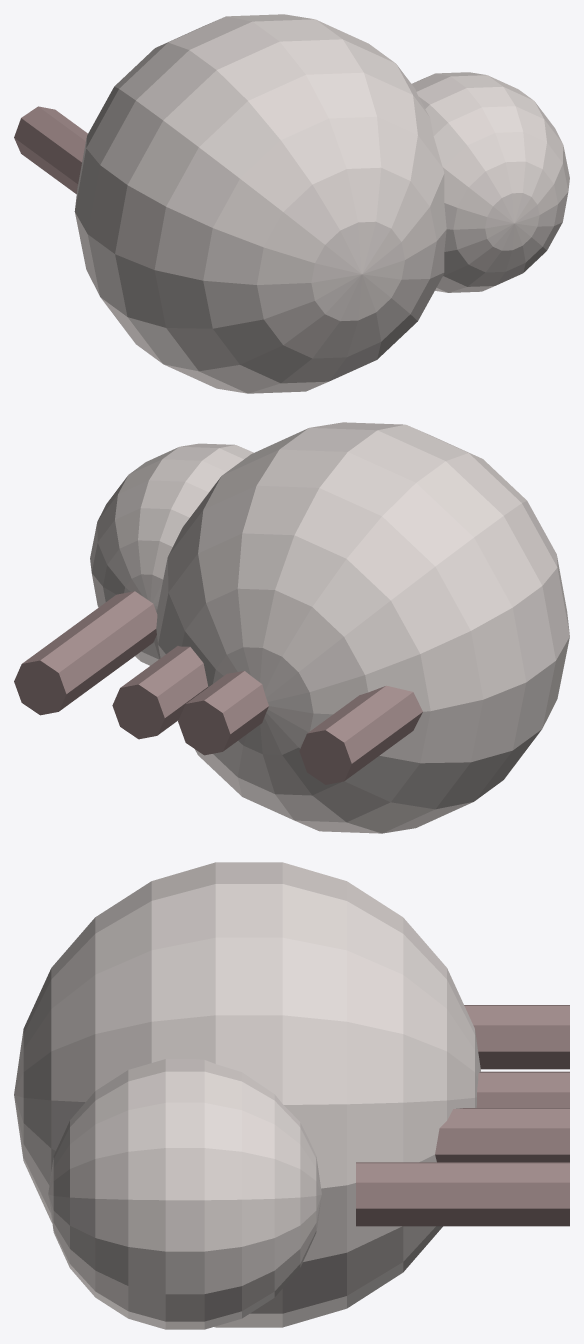
File: Rabbit.glb
3 renders of one model, top to bottom at view 1: azimuth 30°, elevation 25°; view 2: azimuth 150°, elevation 25°; view 3: azimuth 270°, elevation 25°, orthographic. The views are drawn at different scales.
Parts seen in each view (by area): view 1: body, head, leg1; view 2: body, head, leg4, leg1, leg3, leg2; view 3: body, head, leg4, leg3, leg1, leg2.
Part boxes in pixels (box(x1,y1,x2,y2)): body: box(74, 14, 446, 393); head: box(412, 72, 569, 292); leg1: box(14, 106, 87, 193); body: box(156, 422, 569, 833); head: box(90, 443, 253, 665); leg4: box(14, 591, 157, 715); leg1: box(299, 685, 422, 784); leg3: box(112, 646, 208, 739); leg2: box(178, 671, 268, 755); body: box(14, 862, 480, 1327); head: box(48, 1059, 321, 1329); leg4: box(356, 1162, 569, 1226); leg3: box(435, 1108, 569, 1162); leg1: box(464, 1005, 569, 1069); leg2: box(476, 1071, 569, 1107).
Bounding box in the file's own units: 0.8467 × 0.6533 × 0.78.
